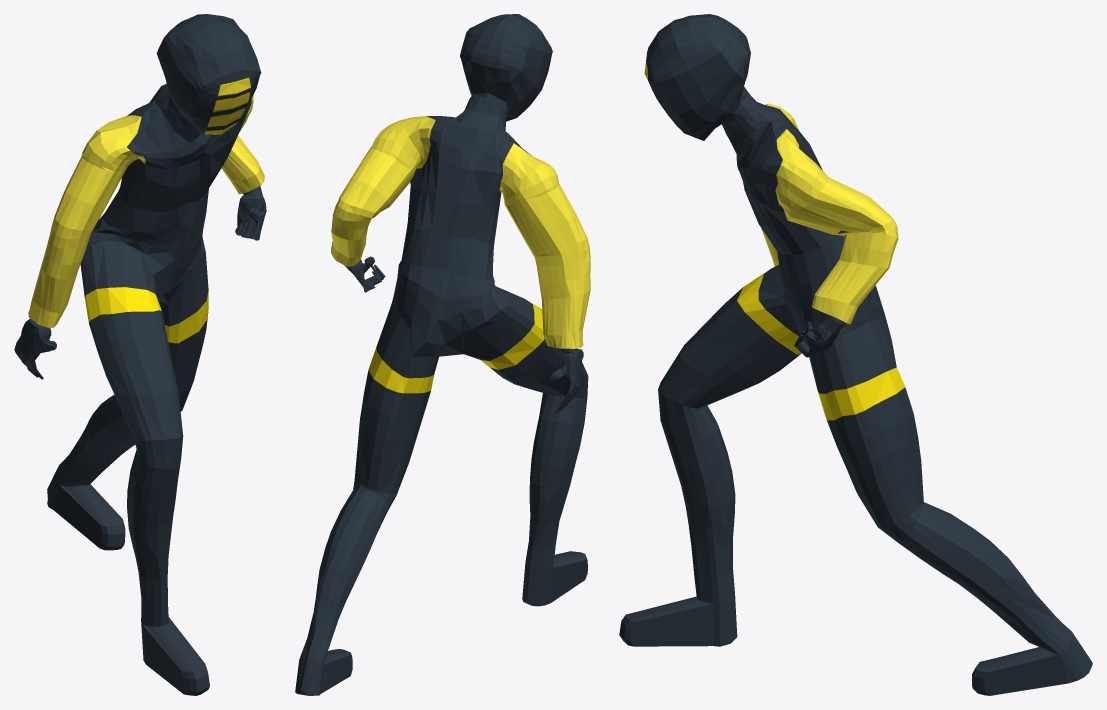
File: Sentry_Stun_000019.obj
3 renders of one model, left to right at view 1: azimuth 30°, elevation 25°; view 2: azimuth 150°, elevation 25°; view 3: azimuth 270°, elevation 25°, orthographic. The views are drawn at different scales.
Visible parts, largest first — view 1: Cube; view 2: Cube; view 3: Cube.
Boxes of the visible parts, x1,y1,x2,y2 form: Cube: [14, 14, 266, 695]; Cube: [295, 14, 590, 695]; Cube: [619, 14, 1092, 695].
Bounding box in the file's own units: 1.43 × 3.38 × 2.23.
